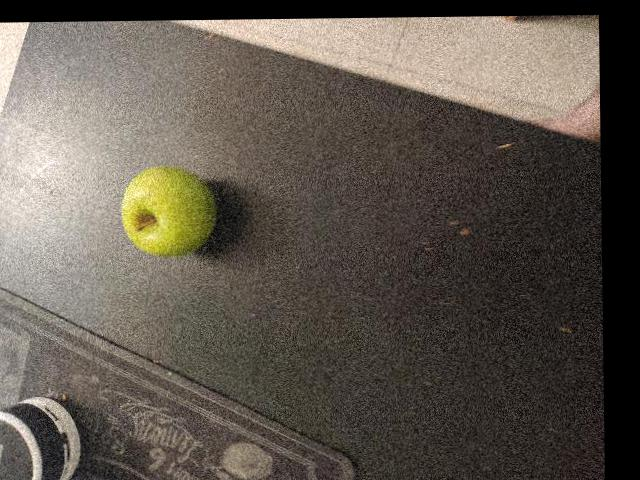apple: (107, 232, 210, 346)
